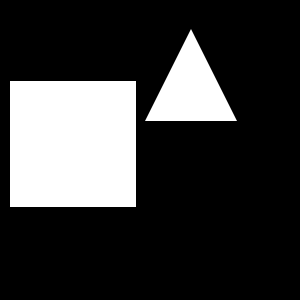circle: (10, 81, 136, 207)
triangle: (145, 29, 237, 121), (67, 82, 117, 132)
